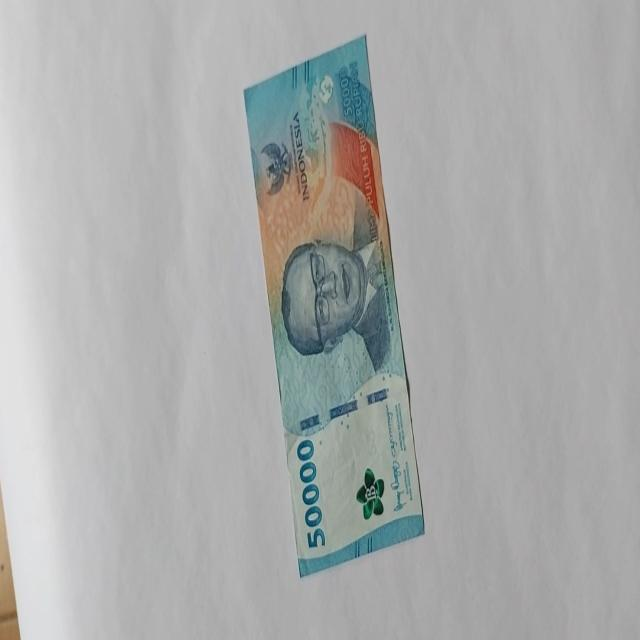lima puluh ribu rupiah: (242, 33, 426, 576)
